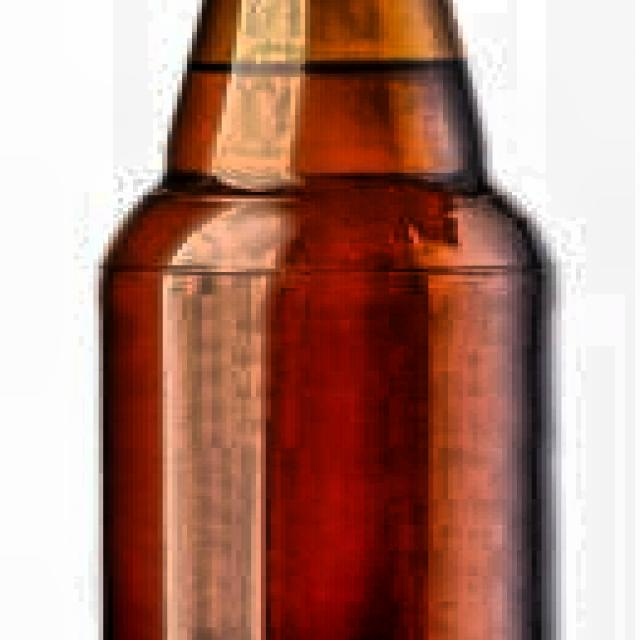glass: (88, 0, 565, 640)
